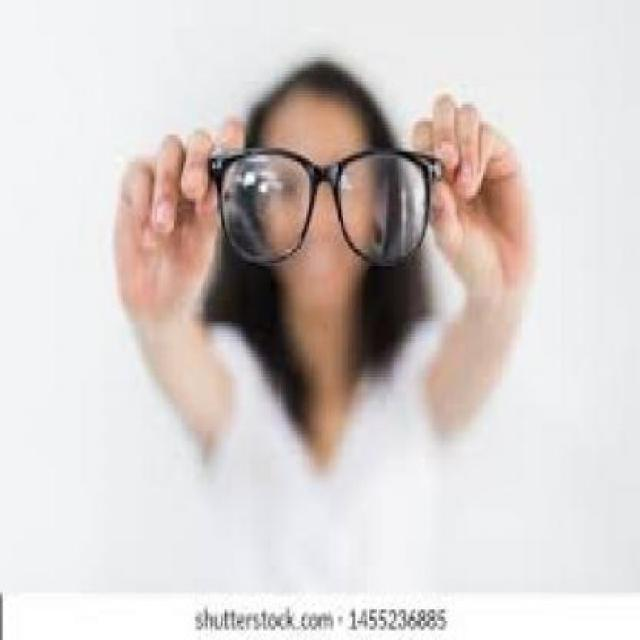mask: (200, 134, 449, 274)
